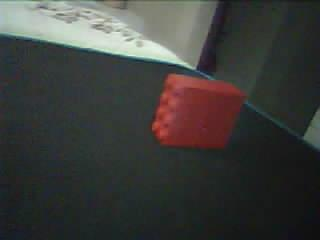lego: (151, 71, 247, 152)
